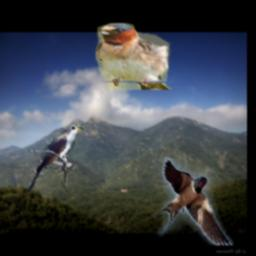Cuckoo: (28, 125, 85, 193)
Swallow: (151, 158, 232, 245), (95, 23, 170, 90)
